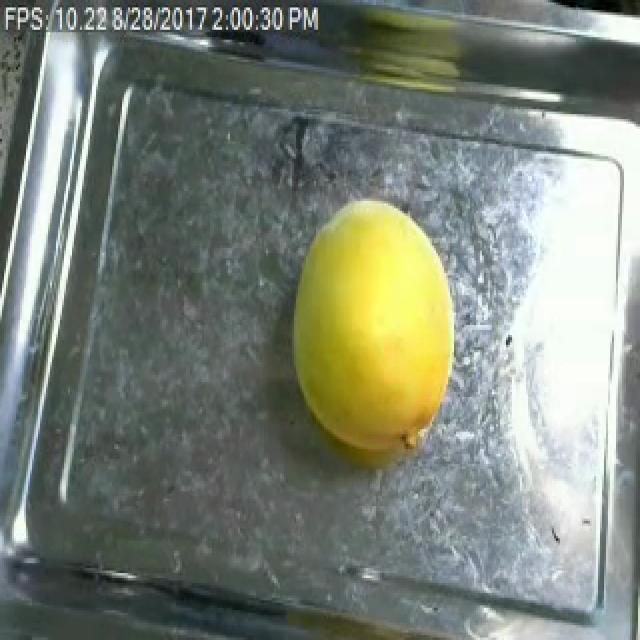fruit: (266, 174, 474, 484)
